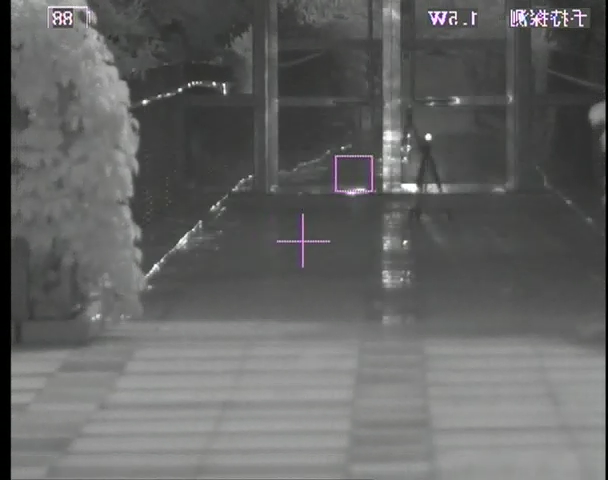my: (424, 132, 433, 141)
